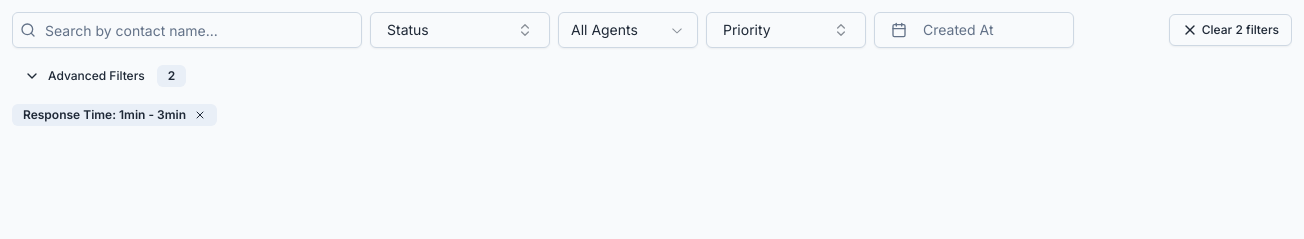
it: ChatViewFilters › Filter State Display › should display selected response time values in inputs
Note: Expand advanced filters to access response time inputs
Step 1. Click the button "Advanced Filters 2" → (105,76), box [12,60,198,92]
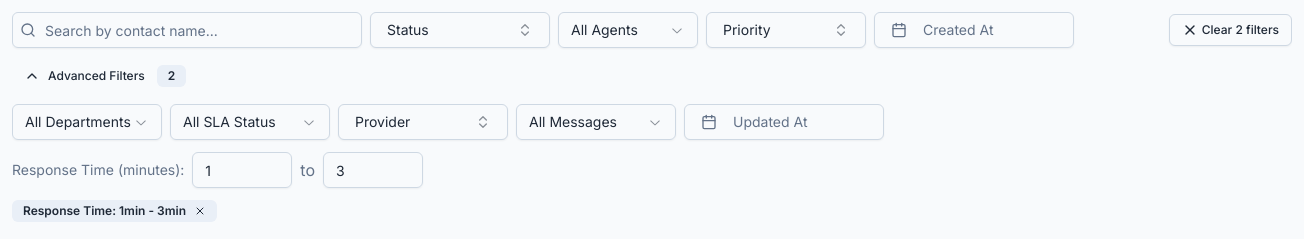
Expected: the 1st number field with placeholder "Min" holds "1", [192,152,292,188]
Result: the 2nd number field with placeholder "Max" holds "3" at [323,152,423,188]
